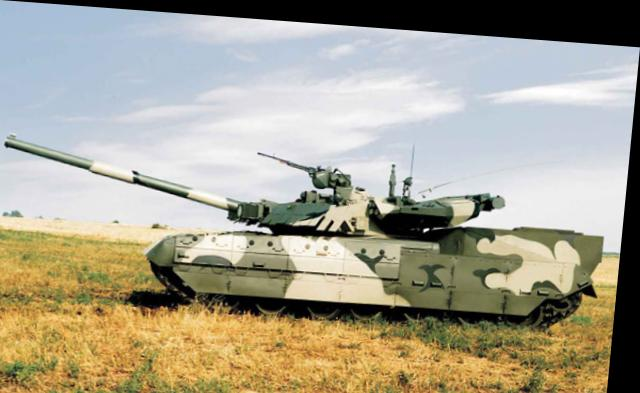tank: (145, 116, 630, 342)
